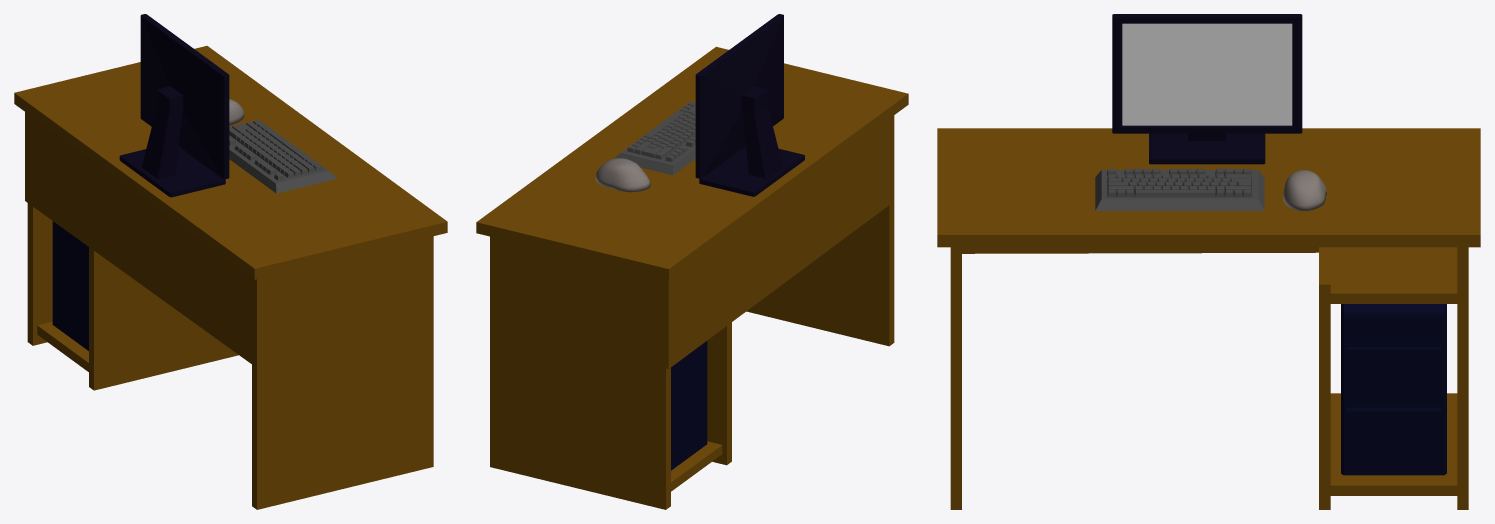
Rendered from desk.fbx.
3 renders of one model, left to right at view 1: azimuth 30°, elevation 25°; view 2: azimuth 150°, elevation 25°; view 3: azimuth 270°, elevation 25°, orthographic. The views are drawn at different scales.
Parts seen in each view (by area): view 1: Desk, Monitor, Keyboard, PC; view 2: Desk, Monitor, PC, Keyboard, Sphere; view 3: Desk, Monitor, PC, Keyboard, Sphere.
Part boxes in pixels (box(x1,y1,x2,y2)): Desk: box(14, 46, 447, 509); Monitor: box(119, 14, 229, 197); Keyboard: box(229, 120, 337, 193); PC: box(52, 221, 88, 350); Desk: box(476, 46, 908, 509); Monitor: box(695, 14, 804, 196); PC: box(671, 341, 707, 470); Keyboard: box(613, 101, 695, 175); Sphere: box(595, 158, 650, 192); Desk: box(937, 128, 1480, 509); Monitor: box(1112, 14, 1302, 164); PC: box(1341, 304, 1446, 475); Keyboard: box(1095, 168, 1264, 210); Sphere: box(1283, 170, 1326, 211).
Bounding box in the file's own units: 273 × 503 × 590.
